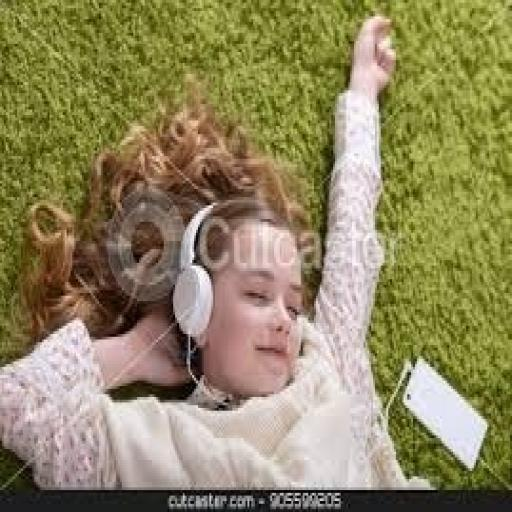listening_to_music: (0, 11, 434, 493)
